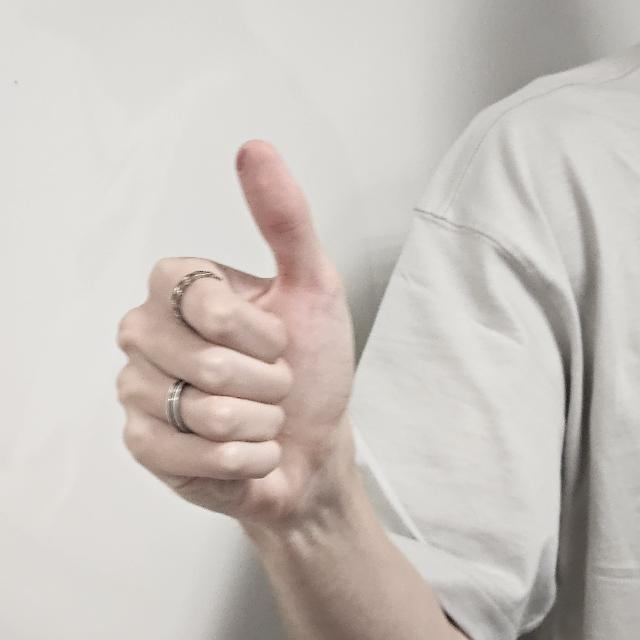Start: (114, 144, 360, 542)
